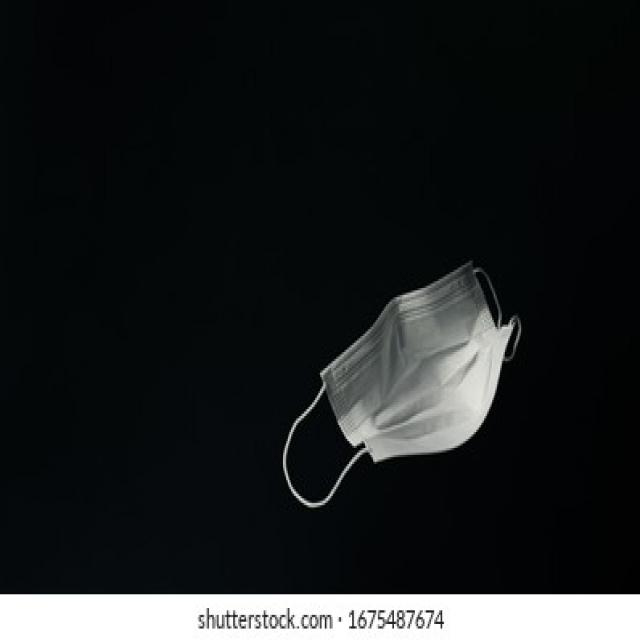non-organic waste: (275, 265, 531, 510)
